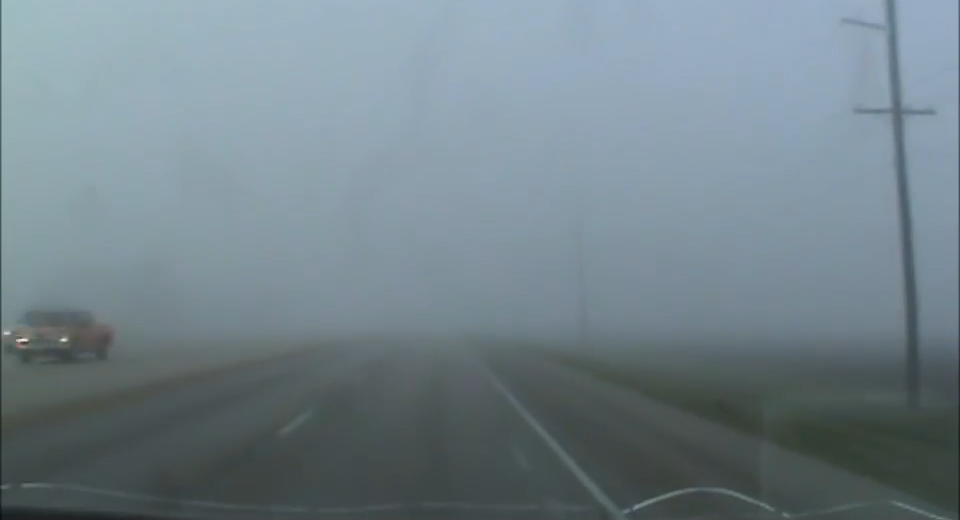car: (14, 309, 116, 362), (3, 312, 57, 351)
